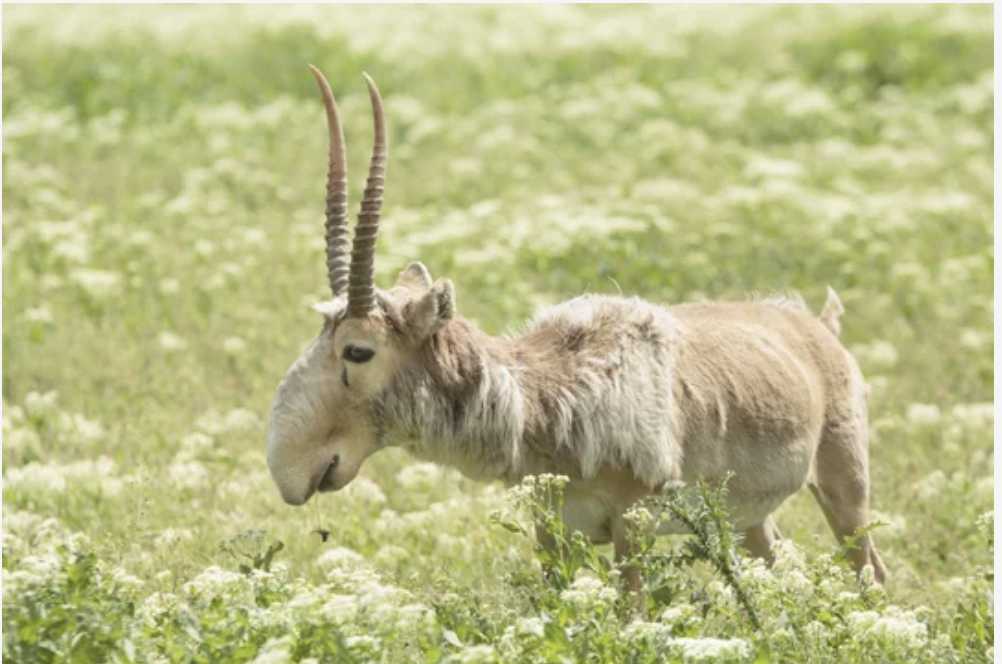saiga: (242, 44, 913, 618)
